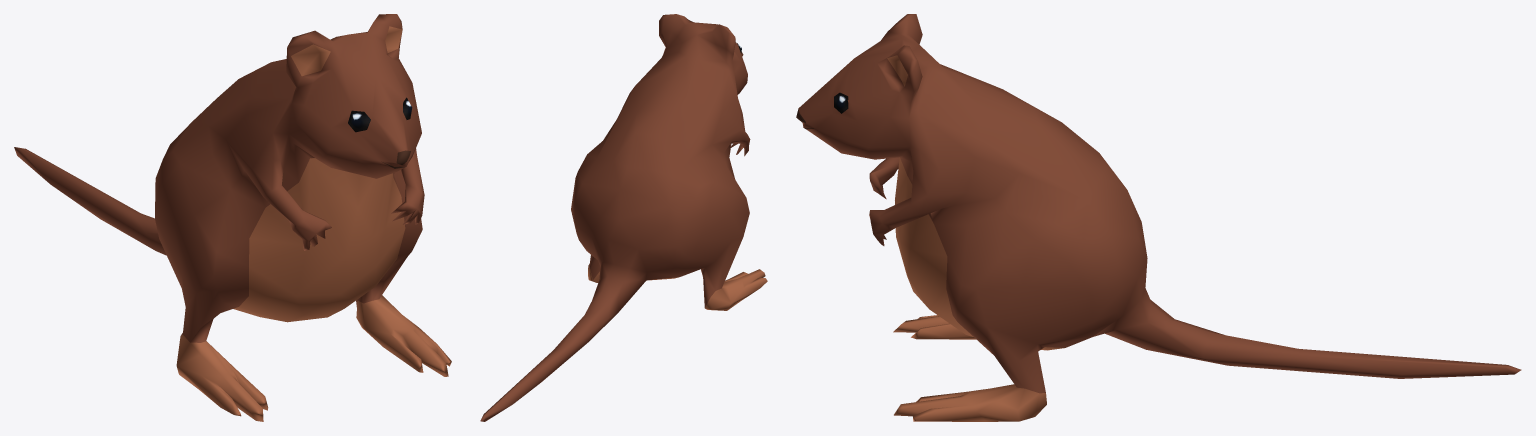
The model's file is Quokka.glb.
3 views of the same model, side by side, from view 1: azimuth 30°, elevation 25°; view 2: azimuth 150°, elevation 25°; view 3: azimuth 270°, elevation 25° (orthographic). The views are drawn at different scales.
Parts seen in each view (by area): view 1: Quokka; view 2: Quokka; view 3: Quokka.
Part boxes in pixels (x1=…): Quokka: x1=14, y1=14, x2=451, y2=421; Quokka: x1=480, y1=14, x2=767, y2=421; Quokka: x1=796, y1=14, x2=1521, y2=421.
Size of what is drawn, in the model's own units: 0.4403 by 0.7154 by 1.36.
1 material, 1 textured.
